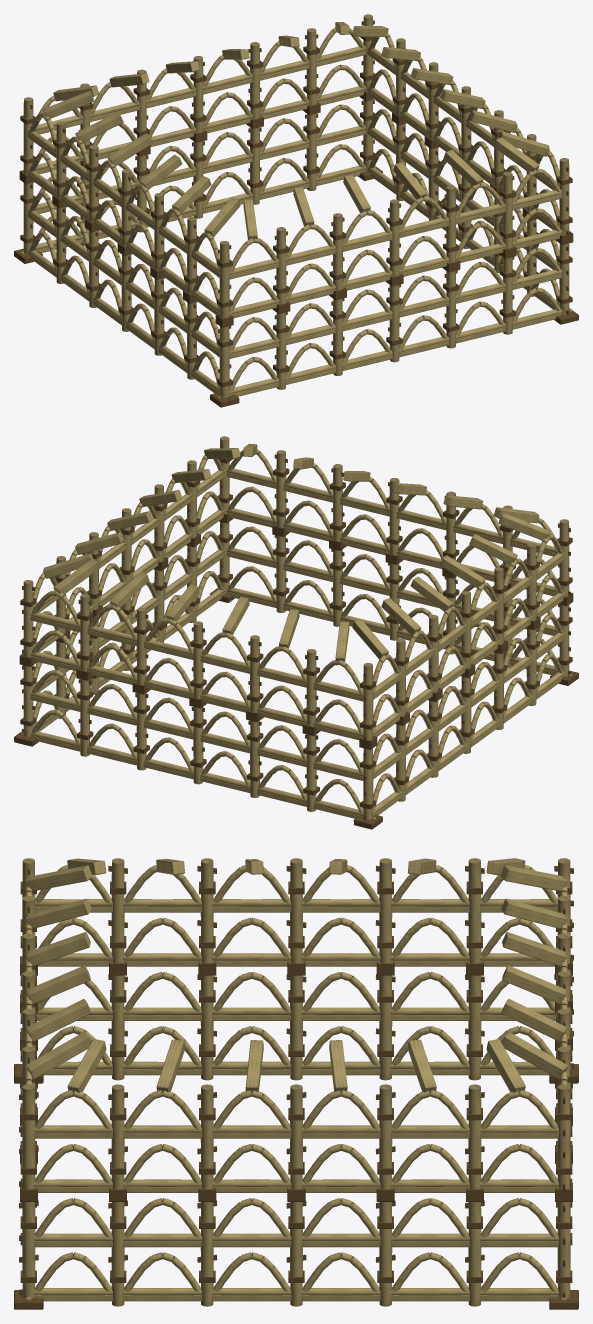
3 renders of one model, top to bottom at view 1: azimuth 30°, elevation 25°; view 2: azimuth 150°, elevation 25°; view 3: azimuth 270°, elevation 25°, orthographic. The views are drawn at different scales.
Visible parts, largest first — view 1: Tier 1 side 0 post 0, Tier 1 side 0 post 3, Tier 0 side 0 post 3, Tier 1 side 2 post 1, Tier 1 side 0 post 1, Tier 1 side 1 post 0, Tier 0 side 2 post 1, Tier 0 side 0 post 1, Tier 1 side 0 post 2, Tier 1 side 0 post 5, Tier 1 side 2 post 3, Tier 0 side 0 post 5 (+34 smaller); view 2: Tier 1 side 2 post 0, Tier 1 side 3 post 0, Tier 1 side 2 post 3, Tier 0 side 2 post 3, Tier 1 side 2 post 5, Tier 1 side 0 post 5, Tier 0 side 0 post 5, Tier 0 side 2 post 5, Tier 1 side 2 post 1, Tier 1 side 0 post 3, Tier 1 side 2 post 4, Tier 1 side 2 post 2 (+33 smaller); view 3: Tier 1 side 1 post 0, Tier 1 side 1 post 5, Tier 1 side 1 post 1, Tier 1 side 3 post 1, Tier 1 side 3 post 5, Tier 0 side 3 post 1, Tier 0 side 3 post 5, Tier 1 side 2 post 0, Tier 1 side 1 post 4, Tier 1 side 1 post 2, Tier 0 side 1 post 1, Tier 0 side 1 post 5 (+64 smaller).
Boxes of the visible parts, x1,y1,x2,y2 form: Tier 1 side 0 post 0: (219,241,229,318); Tier 1 side 0 post 3: (389,199,399,276); Tier 0 side 0 post 3: (389,285,399,362); Tier 1 side 2 post 1: (306,28,316,105); Tier 1 side 0 post 1: (276,227,286,304); Tier 1 side 1 post 0: (559,158,569,235); Tier 0 side 2 post 1: (306,113,316,190); Tier 0 side 0 post 1: (276,312,286,389); Tier 1 side 0 post 2: (333,213,342,290); Tier 1 side 0 post 5: (503,171,512,249); Tier 1 side 2 post 3: (193,56,203,133); Tier 0 side 0 post 5: (503,257,512,334); Tier 1 side 2 post 0: (23,580,33,657); Tier 1 side 3 post 0: (363,663,373,740); Tier 1 side 2 post 3: (193,621,203,698); Tier 0 side 2 post 3: (193,707,203,784); Tier 1 side 2 post 5: (306,649,316,726); Tier 1 side 0 post 5: (276,450,286,527); Tier 0 side 0 post 5: (276,535,286,612); Tier 0 side 2 post 5: (306,734,316,811); Tier 1 side 2 post 1: (80,593,89,671); Tier 1 side 0 post 3: (389,478,399,555); Tier 1 side 2 post 4: (250,635,259,712); Tier 1 side 2 post 2: (136,607,146,685); Tier 1 side 1 post 0: (22,1084,35,1189); Tier 1 side 1 post 5: (468,1084,481,1189); Tier 1 side 1 post 1: (111,1084,124,1189); Tier 1 side 3 post 1: (468,858,481,963); Tier 1 side 3 post 5: (111,858,124,963); Tier 0 side 3 post 1: (468,975,481,1080); Tier 0 side 3 post 5: (111,975,124,1080); Tier 1 side 2 post 0: (557,1084,570,1189); Tier 1 side 1 post 4: (379,1084,392,1189); Tier 1 side 1 post 2: (200,1084,213,1189); Tier 0 side 1 post 1: (111,1202,124,1306); Tier 0 side 1 post 5: (468,1202,481,1306).
Size of the model in its own units: 2.85 by 1.34 by 2.85.
2 materials, 2 textured.
